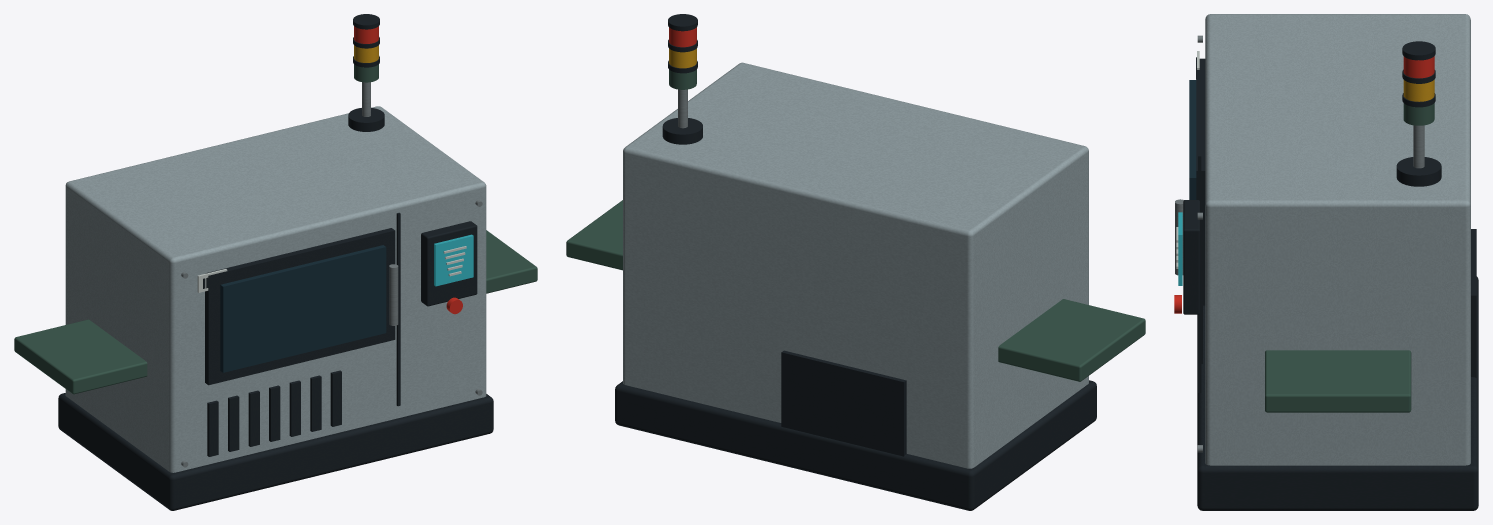
Rendered from production-machine.f25767e12a5f.glb.
The picture shows the model from 3 angles, left to right: view 1: azimuth 30°, elevation 25°; view 2: azimuth 150°, elevation 25°; view 3: azimuth 270°, elevation 25°; orthographic projection. The views are drawn at different scales.
Parts seen in each view (by area): view 1: machine_body_0002, base_0001, inspection_window_0004, inspection_window_frame_0003, conveyor_0033, display_frame_0005, conveyor_0034, display_0006, door_seam_0007, mount_0036, vent_0027, vent_0031 (+6 smaller); view 2: machine_body_0002, base_0001, service_panel_0013, conveyor_0033, conveyor_0034, mount_0036; view 3: machine_body_0002, base_0001, conveyor_0034, display_frame_0005, inspection_window_frame_0003, mount_0036, inspection_window_0004, service_panel_0013, door_seam_0007, signal_0038, signal_0042, signal_0040 (+4 smaller).
Part boxes in pixels (<box>): machine_body_0002: <box>65,106,486,472</box>; base_0001: <box>58,393,493,510</box>; inspection_window_0004: <box>220,245,386,372</box>; inspection_window_frame_0003: <box>205,228,395,385</box>; conveyor_0033: <box>14,319,147,394</box>; display_frame_0005: <box>421,221,477,306</box>; conveyor_0034: <box>486,230,537,293</box>; display_0006: <box>434,234,473,286</box>; door_seam_0007: <box>396,212,400,406</box>; mount_0036: <box>348,107,384,131</box>; vent_0027: <box>228,395,239,451</box>; vent_0031: <box>310,375,321,431</box>; machine_body_0002: <box>623,62,1088,468</box>; base_0001: <box>615,380,1096,510</box>; service_panel_0013: <box>781,350,906,456</box>; conveyor_0033: <box>998,299,1145,381</box>; conveyor_0034: <box>566,200,622,270</box>; mount_0036: <box>662,118,702,144</box>; machine_body_0002: <box>1205,14,1470,465</box>; base_0001: <box>1197,276,1478,510</box>; conveyor_0034: <box>1265,350,1411,412</box>; display_frame_0005: <box>1183,200,1199,314</box>; inspection_window_frame_0003: <box>1196,58,1205,305</box>; mount_0036: <box>1396,157,1441,186</box>; inspection_window_0004: <box>1189,80,1196,199</box>; service_panel_0013: <box>1471,229,1476,377</box>; door_seam_0007: <box>1198,154,1201,392</box>; signal_0038: <box>1403,103,1434,125</box>; signal_0042: <box>1403,56,1434,78</box>; signal_0040: <box>1403,80,1434,101</box>.
Size of the model in its own units: 2.94 by 2.16 by 1.35.
9 materials, 4 textured.
